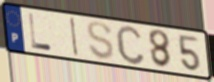5: (176, 34, 203, 72)
8: (148, 29, 174, 70)
C: (114, 23, 147, 66)
I: (69, 16, 80, 58)
L: (27, 12, 54, 52)
S: (86, 20, 116, 62)
